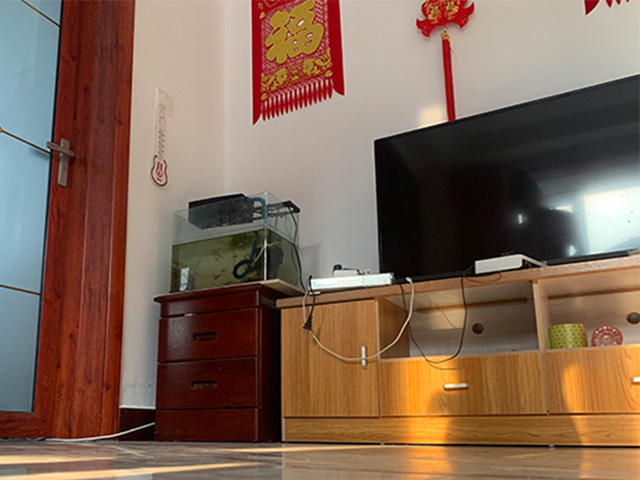cabinet: (276, 253, 640, 448), (152, 283, 287, 442)
wire: (44, 421, 153, 443)
